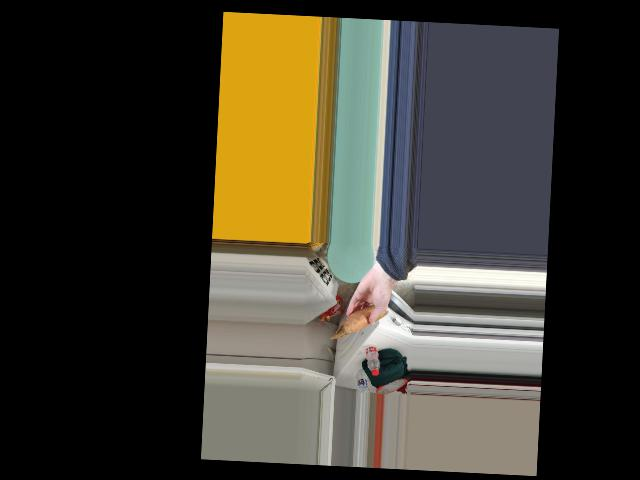sweet_potato: (345, 304, 379, 333)
